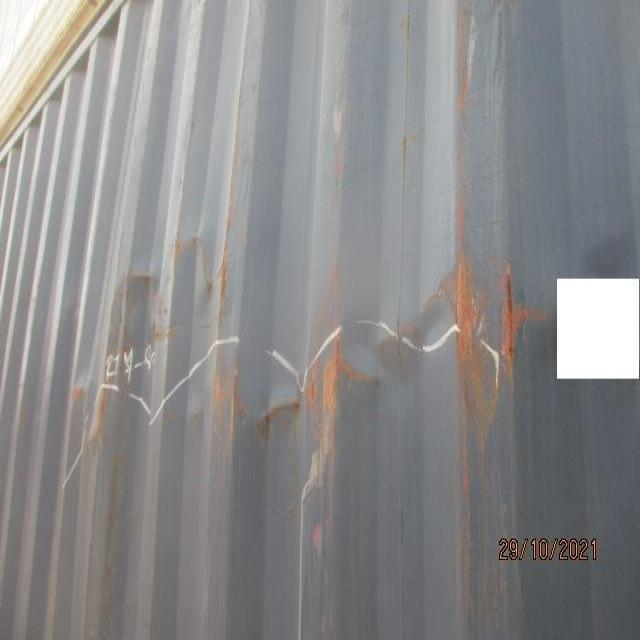dent: (62, 178, 468, 480)
